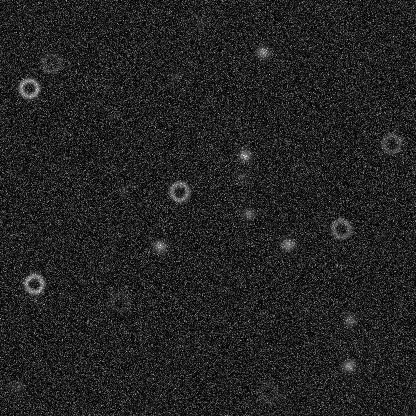Ring: (21, 271, 45, 295), (167, 179, 191, 203), (16, 76, 40, 100), (328, 216, 352, 240), (39, 51, 63, 75), (108, 290, 132, 314), (256, 380, 280, 404), (379, 131, 403, 155)
Spot: (167, 68, 183, 84), (234, 168, 250, 184), (9, 378, 25, 394), (27, 291, 43, 307), (151, 238, 167, 254), (192, 14, 208, 30), (240, 205, 256, 221), (115, 182, 131, 198), (236, 147, 252, 163), (279, 236, 295, 252), (340, 357, 356, 373), (254, 44, 270, 60), (341, 312, 357, 328)
